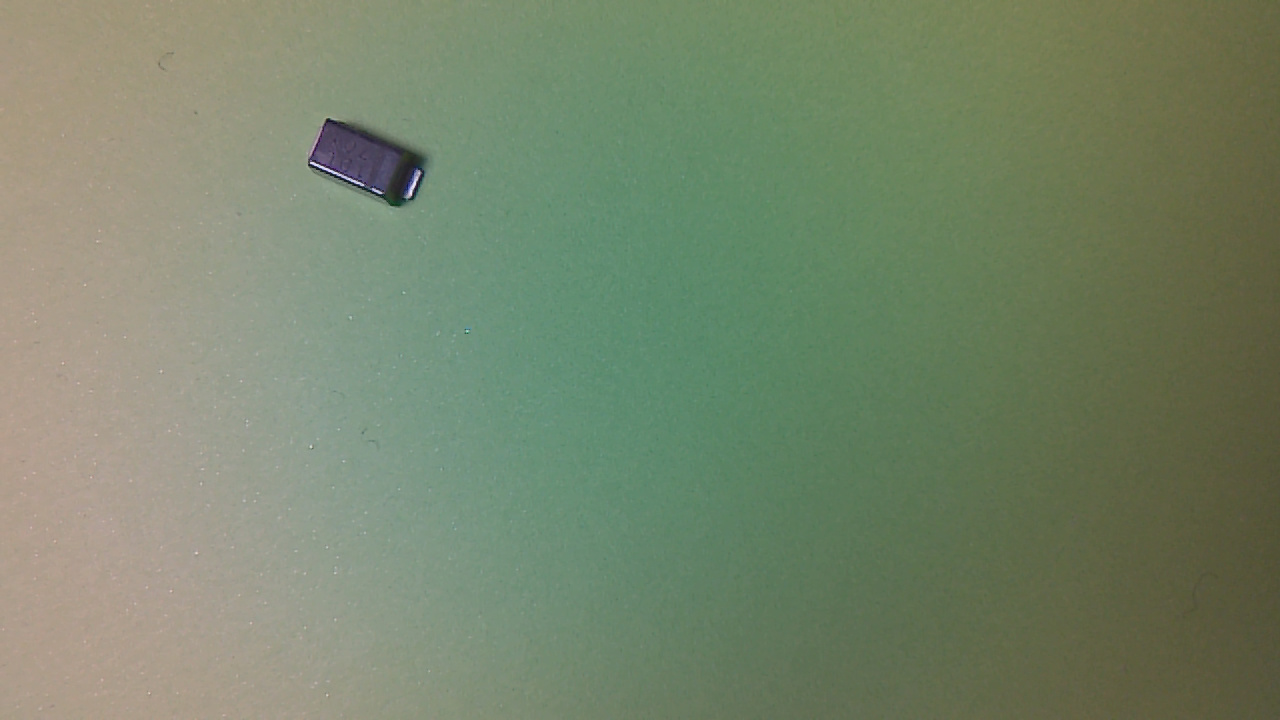Diode: (309, 121, 434, 212)
